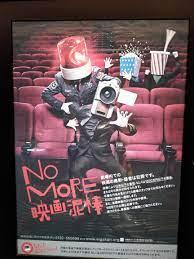no more kid: (87, 77, 136, 123)
